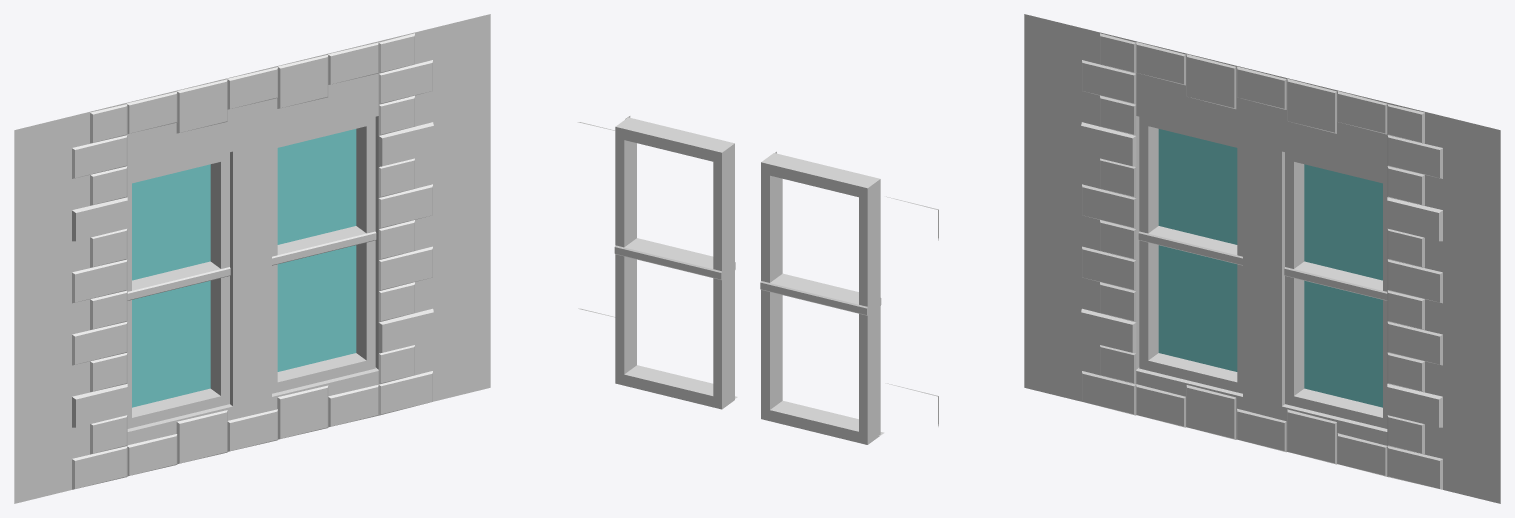
The model's file is Brick_RedWhite_DoubleWindow.gltf.
3 renders of one model, left to right at view 1: azimuth 30°, elevation 25°; view 2: azimuth 150°, elevation 25°; view 3: azimuth 330°, elevation 25°, orthographic.
Parts seen in each view (by area): view 1: Brick_RedWhite_DoubleWindow; view 2: Brick_RedWhite_DoubleWindow; view 3: Brick_RedWhite_DoubleWindow.
Boxes of the visible parts, <box> form: Brick_RedWhite_DoubleWindow: <box>14,14,490,503</box>; Brick_RedWhite_DoubleWindow: <box>577,116,938,444</box>; Brick_RedWhite_DoubleWindow: <box>1024,14,1500,503</box>.
Bounding box in the file's own units: 4 × 3 × 0.2773.
